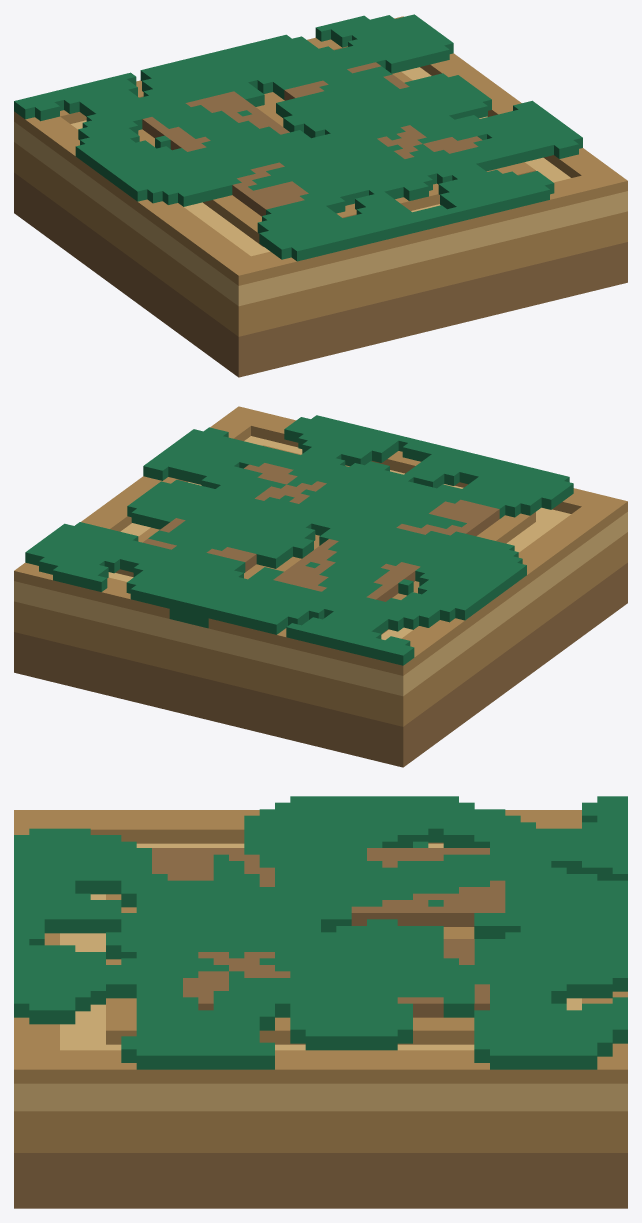
File: TileMoss.obj
The picture shows the model from 3 angles, top to bottom: view 1: azimuth 30°, elevation 25°; view 2: azimuth 150°, elevation 25°; view 3: azimuth 270°, elevation 25°; orthographic projection. The views are drawn at different scales.
Size of the model in its own units: 4 by 1.1 by 4.
1 material, 1 textured.
